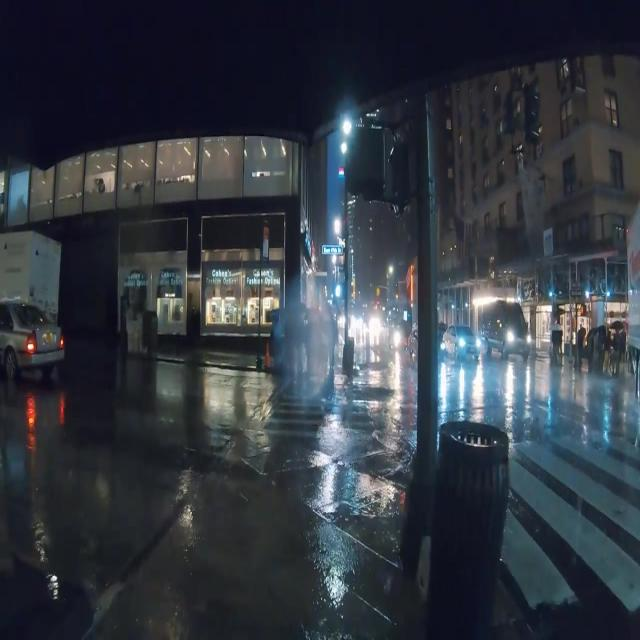Car: (443, 324, 480, 361)
